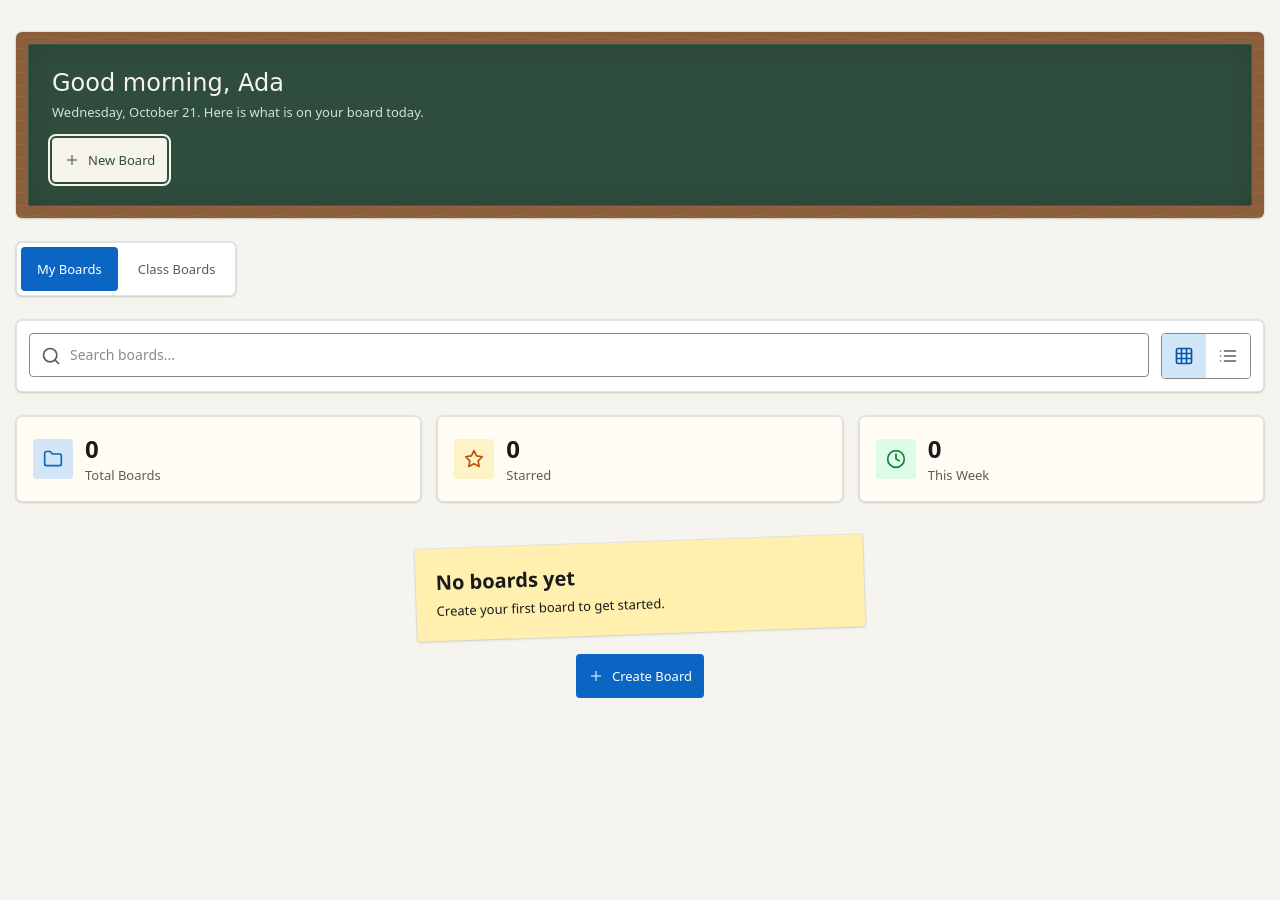
it: StudentDashboardPage create-board dialog › focus moves to the first board type; Escape closes and returns focus to New Board
Click the button "New Board": {"x": 110, "y": 160} x1=52 y1=138 x2=167 y2=182
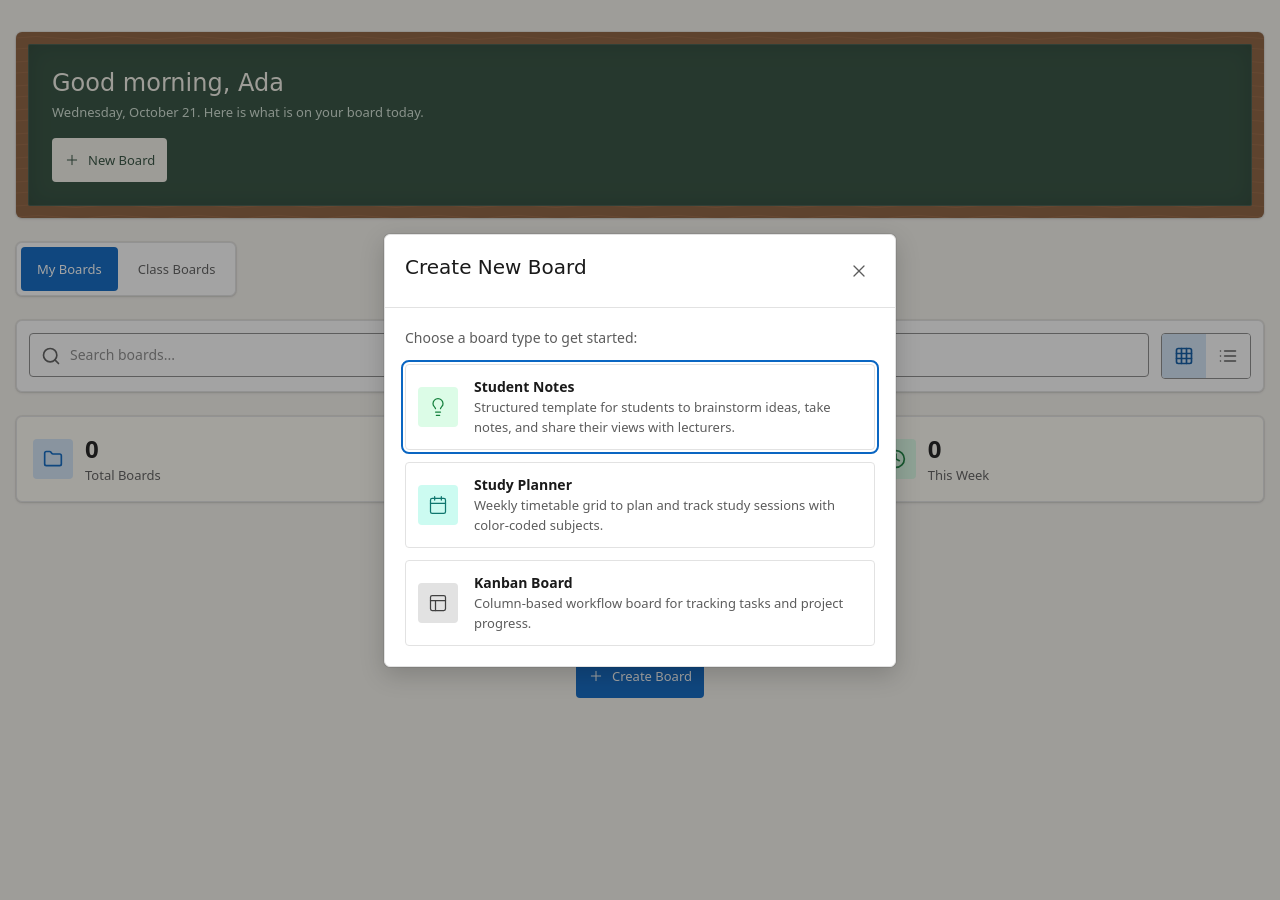
Press Escape
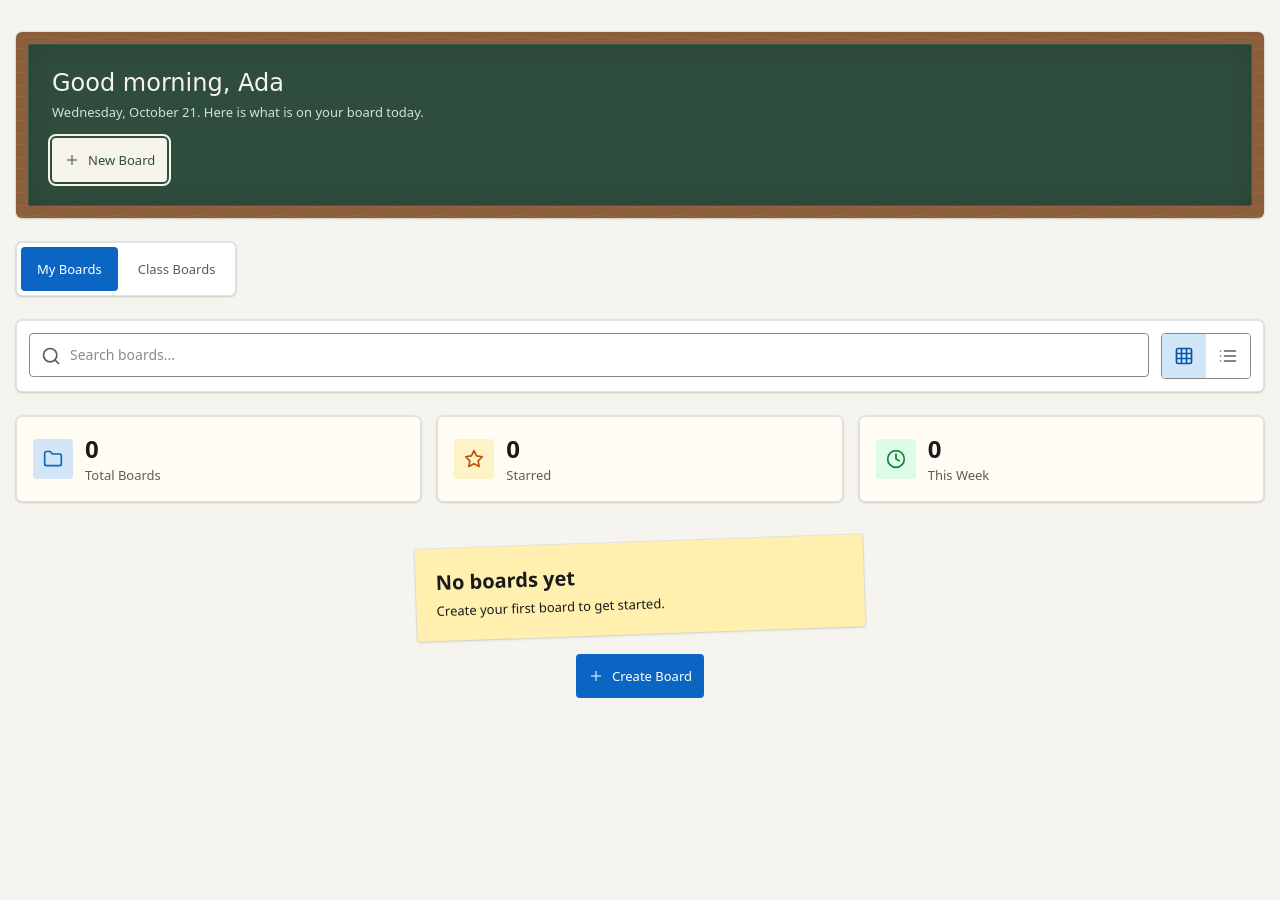
Expected: the dialog is gone
